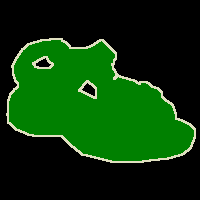shoe: (7, 38, 195, 162)
